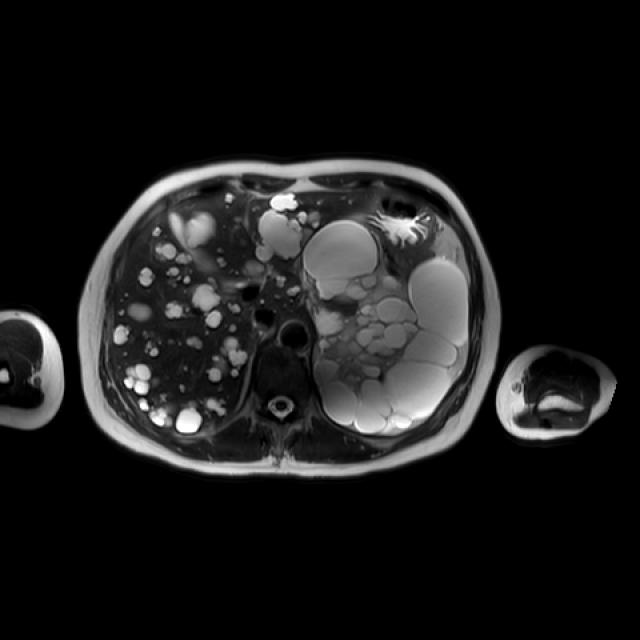sol: (305, 223, 467, 431)
